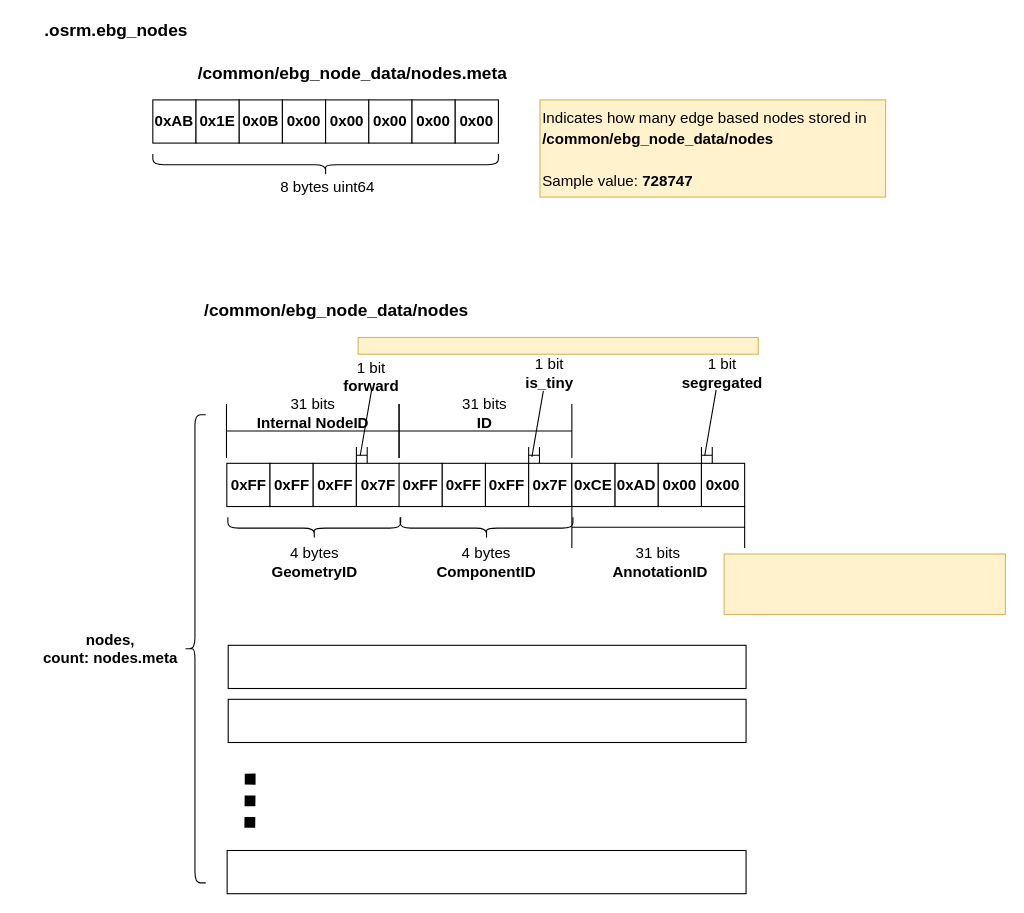
Image size: 1024x913. Some labels were removed from this diagram. The shapes that lost their labels are listed below. From the top down, each one's centre as x and y in pixels, then its label:
At (x=557, y=345): "1 bit position: due to LittleEndian".
At (x=864, y=584): "AnnotationID is index of contents in /common/ebg_node_data/annotations".
